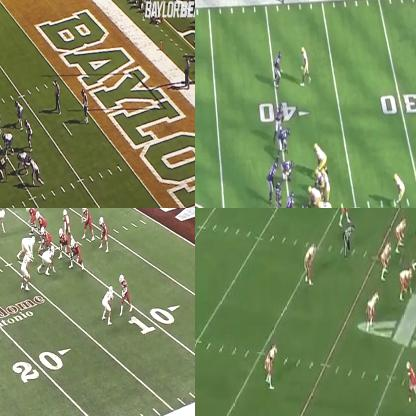CENTER: (38, 227, 50, 254), (304, 184, 317, 207)
DB: (263, 341, 278, 390), (304, 244, 317, 288), (101, 287, 113, 321), (82, 91, 90, 123), (274, 52, 282, 83), (340, 208, 352, 226)
LB: (366, 291, 379, 333), (267, 160, 278, 207), (380, 240, 392, 282), (397, 214, 408, 252), (273, 107, 283, 141), (22, 252, 30, 288), (26, 121, 34, 152), (16, 99, 23, 130), (276, 182, 283, 207)
QB: (81, 208, 95, 245), (322, 168, 330, 203)
SKILL: (119, 271, 132, 314), (300, 43, 311, 81), (406, 361, 415, 406), (28, 156, 42, 184), (392, 172, 403, 207), (98, 216, 108, 247), (64, 210, 72, 229)
